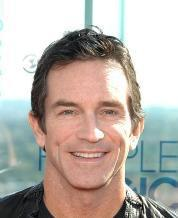face: (50, 99, 130, 164)
